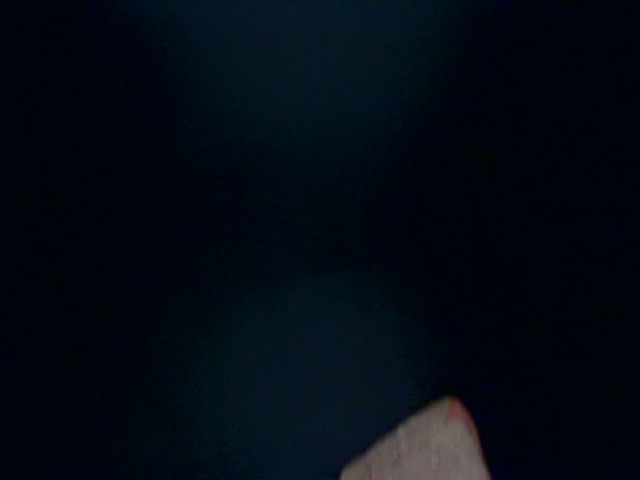KHSLJ: (1, 31, 264, 330)
